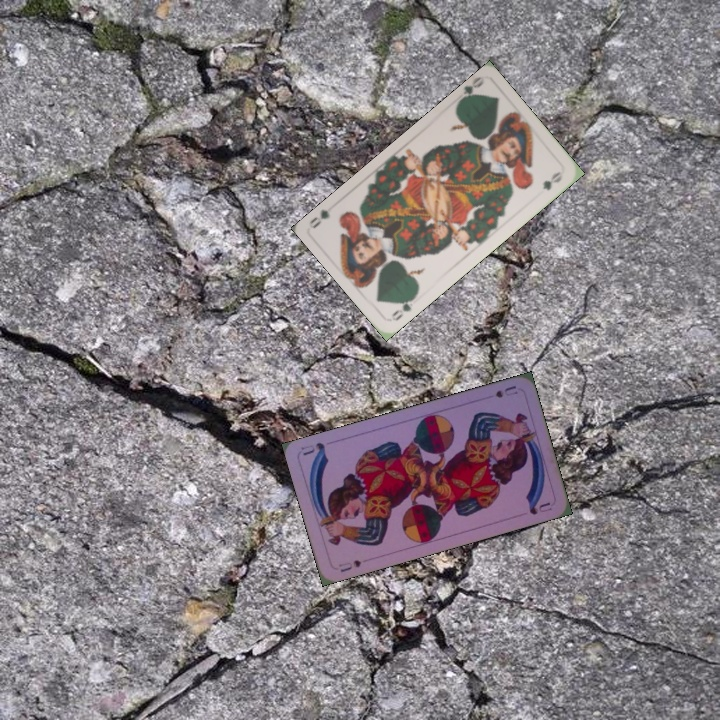GO: (453, 74, 486, 107), (387, 291, 419, 324)
SU: (491, 381, 520, 400), (334, 556, 364, 574)
